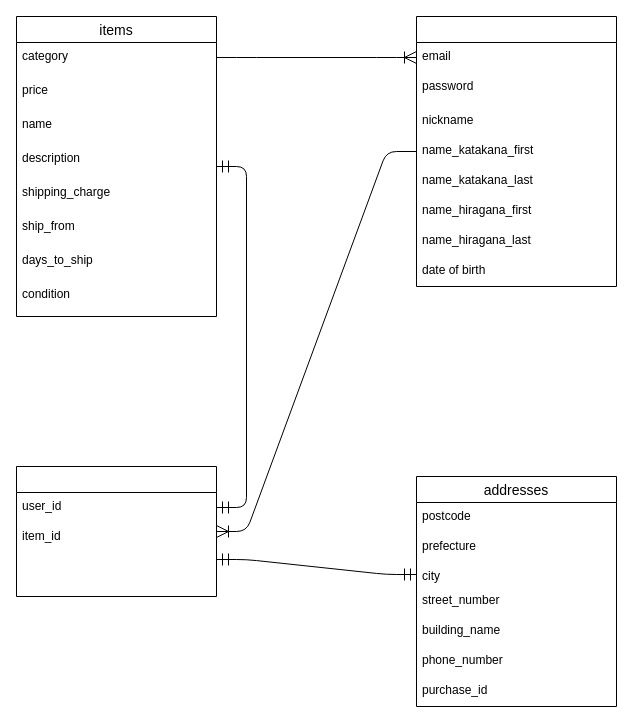
This 633x723 diagram has some shape labels left out. The box of each missing label's shape, as (x1, y1, x2, y2) in pixels:
purchases: (16, 466, 216, 596)
users: (416, 16, 616, 286)
